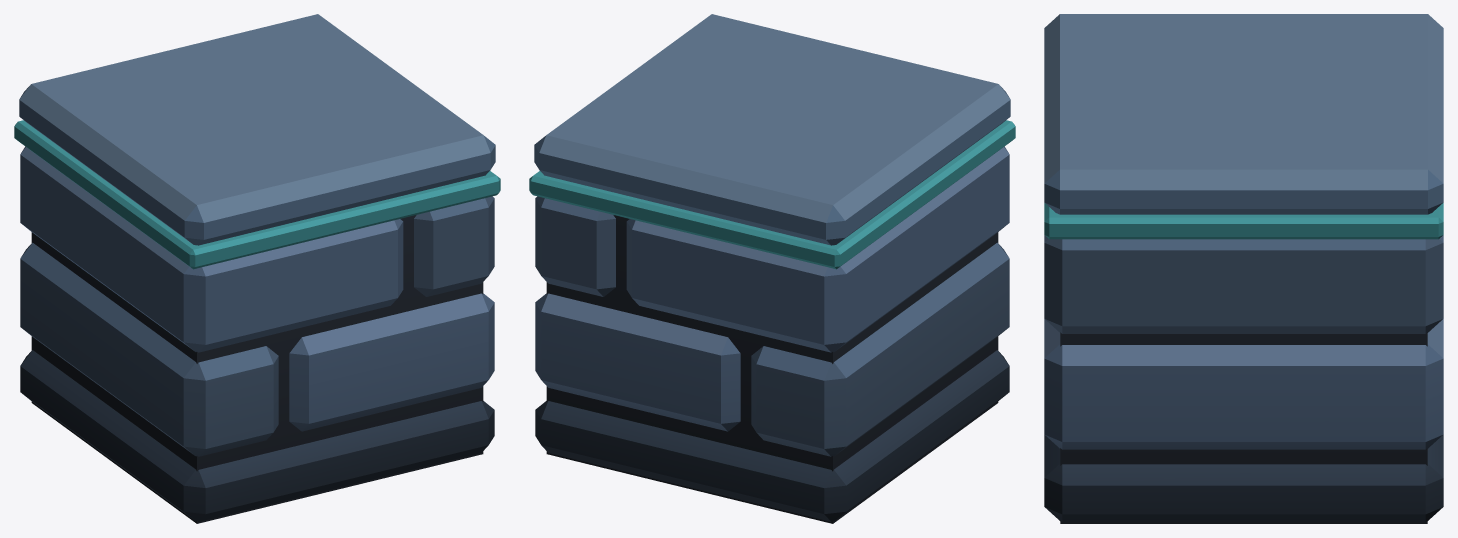
Rendered from wall-course.glb.
3 views of the same model, side by side, from view 1: azimuth 30°, elevation 25°; view 2: azimuth 150°, elevation 25°; view 3: azimuth 270°, elevation 25° (orthographic). The views are drawn at different scales.
Parts seen in each view (by area): view 1: mesh_wall_course; view 2: mesh_wall_course; view 3: mesh_wall_course.
Part boxes in pixels (x1,y1,x2,y2): mesh_wall_course: [14, 14, 500, 523]; mesh_wall_course: [529, 14, 1015, 523]; mesh_wall_course: [1044, 14, 1443, 523].
Size of the model in its own units: 1 by 0.98 by 1.
